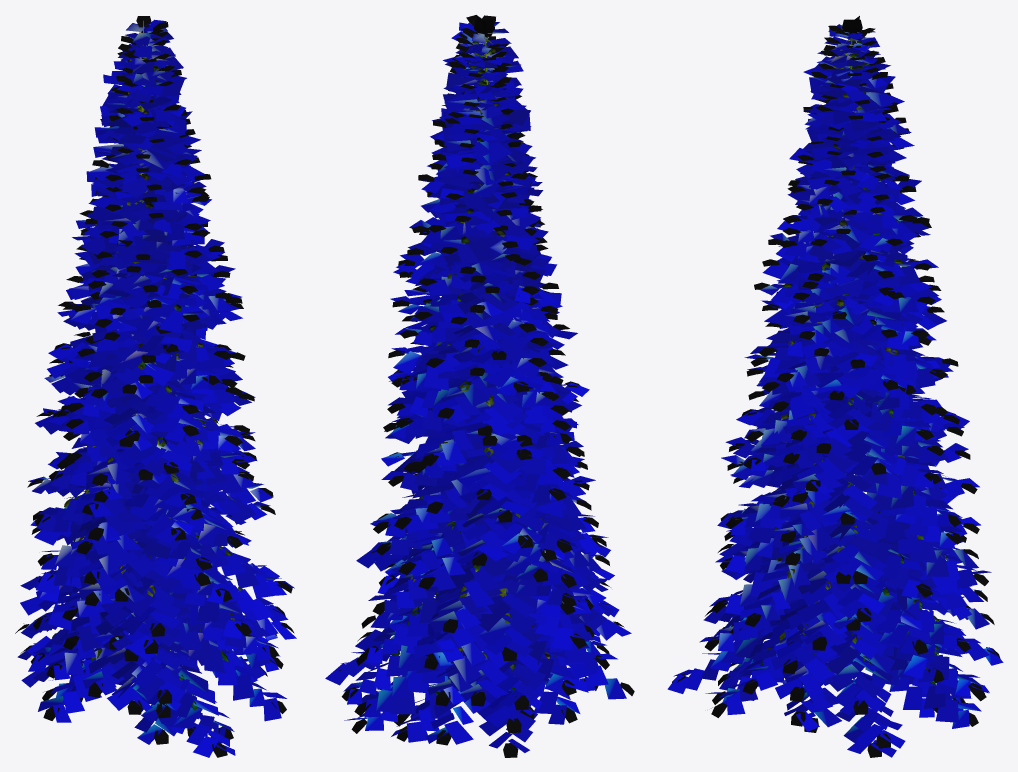
The model's file is tree_hill_spruce.glb.
The picture shows the model from 3 angles, left to right: view 1: azimuth 30°, elevation 25°; view 2: azimuth 150°, elevation 25°; view 3: azimuth 270°, elevation 25°; orthographic projection.
Visible parts, largest first — view 1: lod1_hill_spruce; view 2: lod1_hill_spruce; view 3: lod1_hill_spruce.
Part boxes in pixels (x1,y1,x2,y2): lod1_hill_spruce: [15, 16, 296, 757]; lod1_hill_spruce: [325, 15, 634, 757]; lod1_hill_spruce: [667, 16, 1003, 757].
Bounding box in the file's own units: 9.68 × 24.79 × 10.96.
